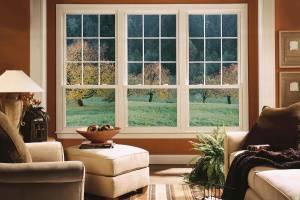window: (55, 3, 247, 131)
